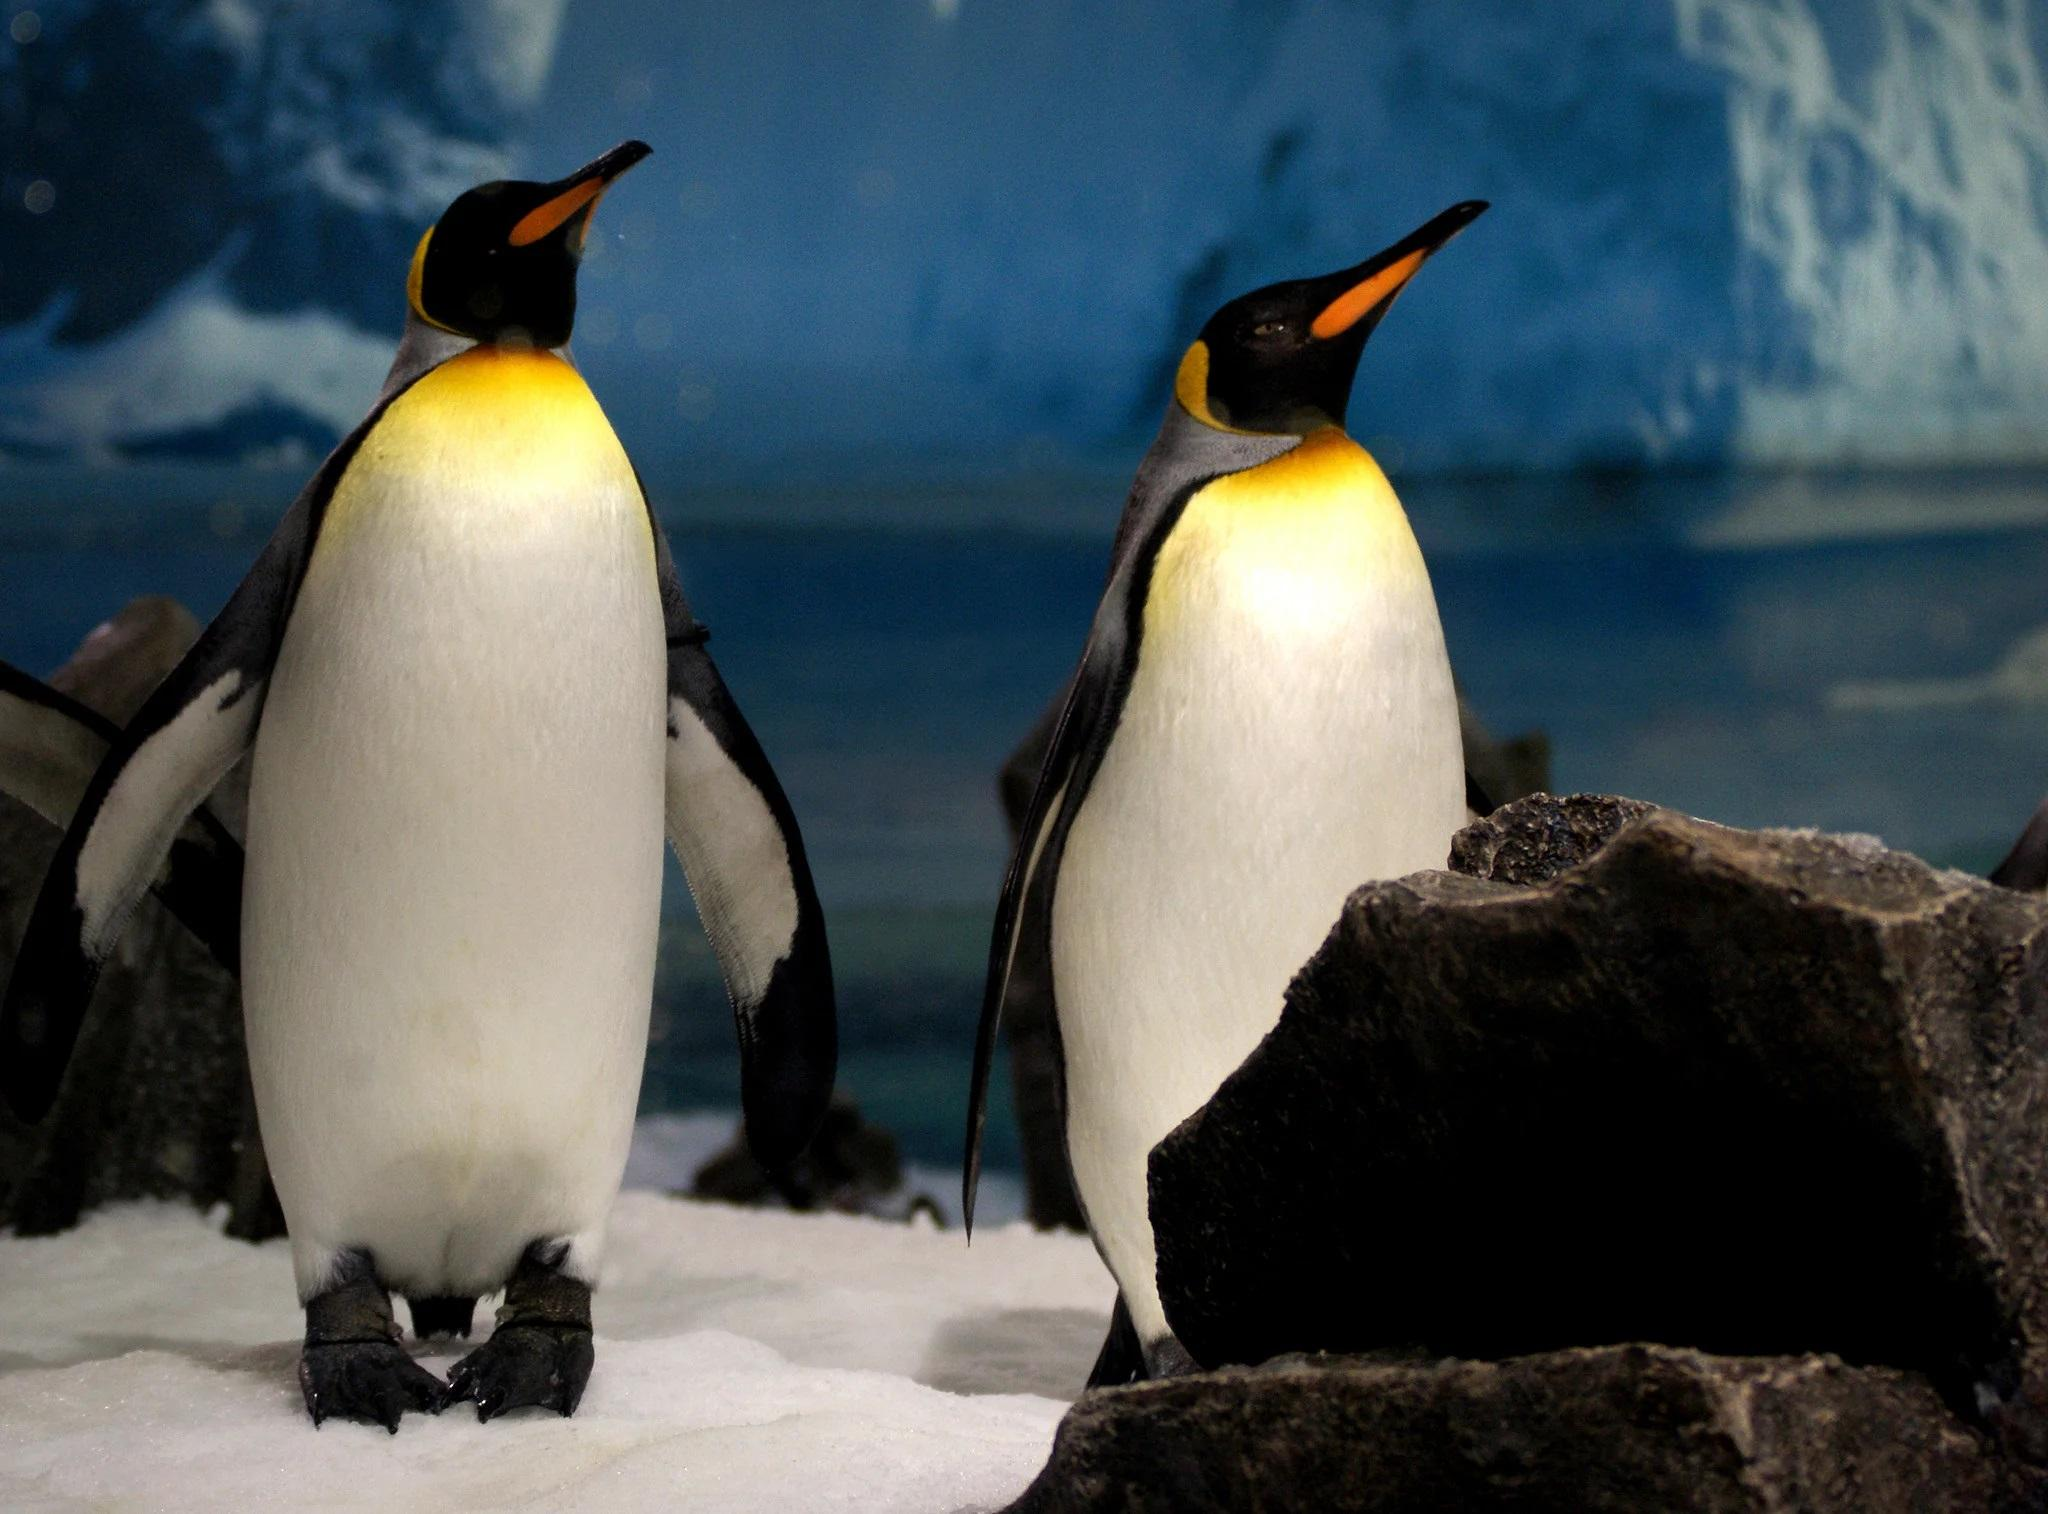king: (81, 127, 881, 1433), (965, 227, 1673, 1427)
